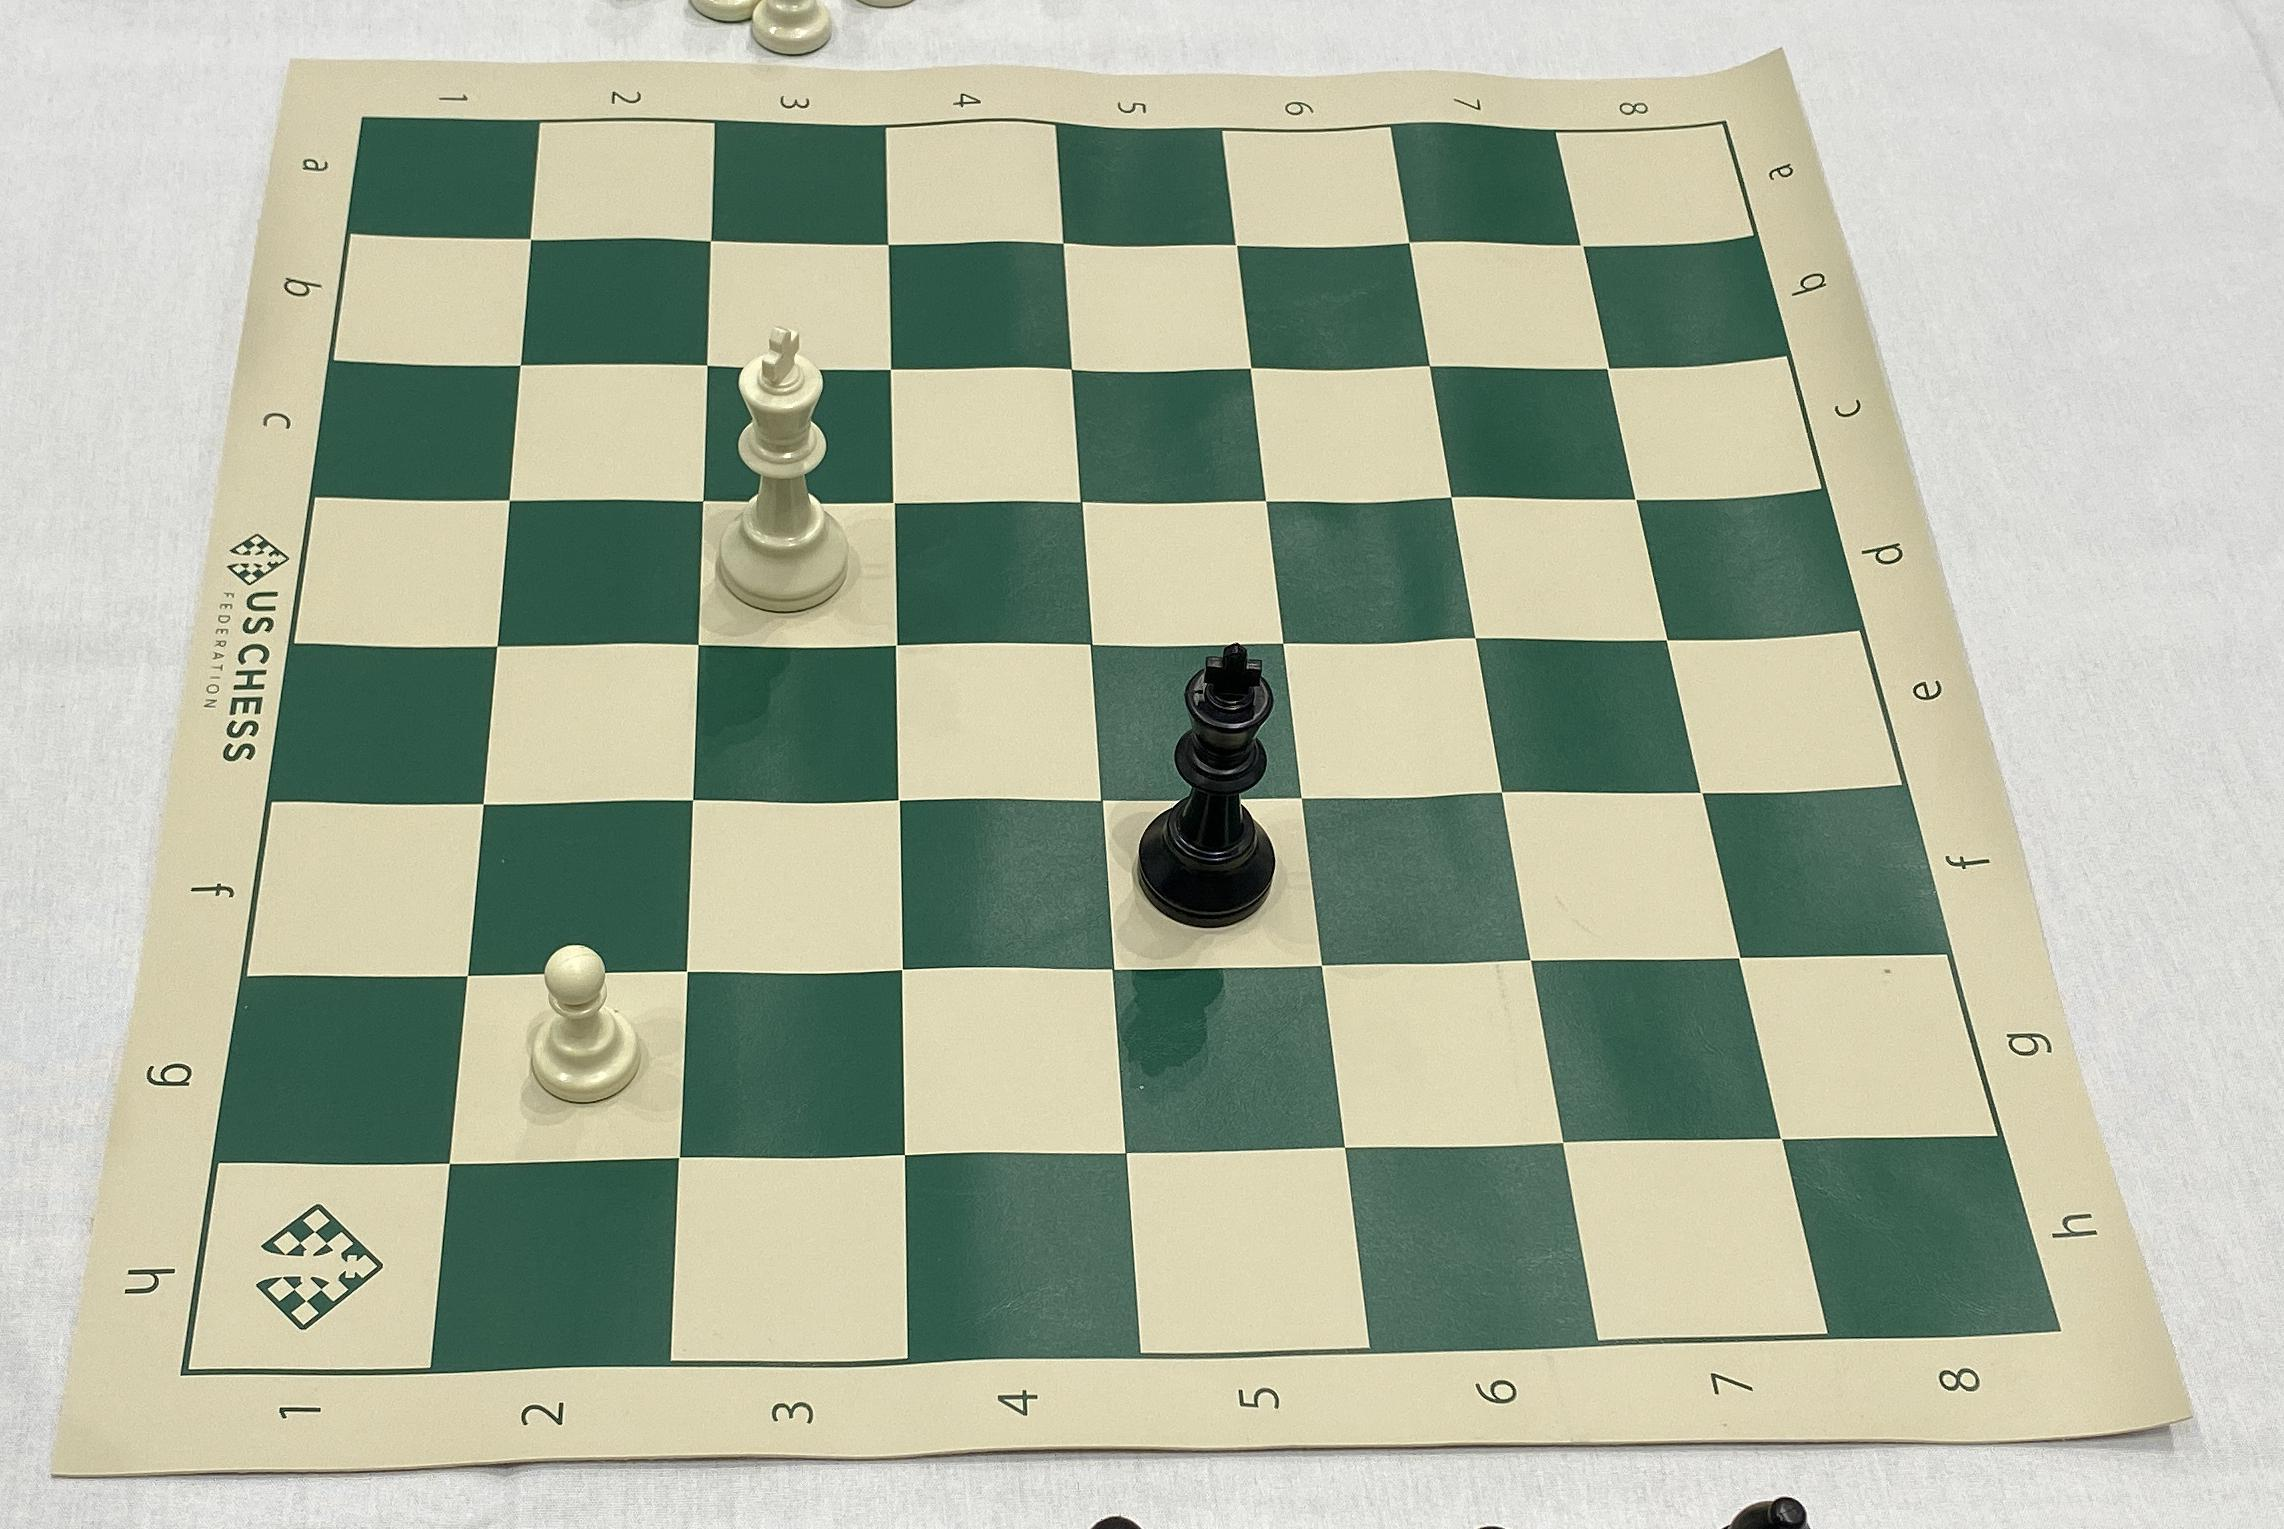black-king: (1122, 628, 1296, 939)
white-king: (704, 324, 856, 621)
white-pawn: (515, 933, 648, 1114)
